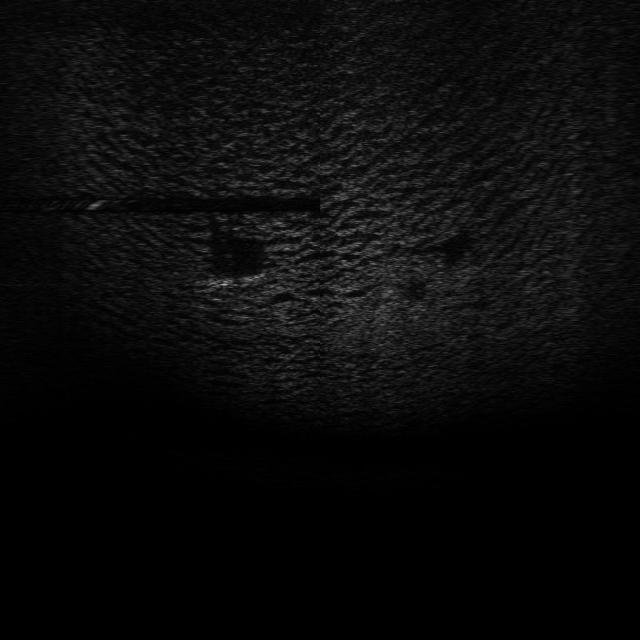plane: (198, 268, 264, 294)
